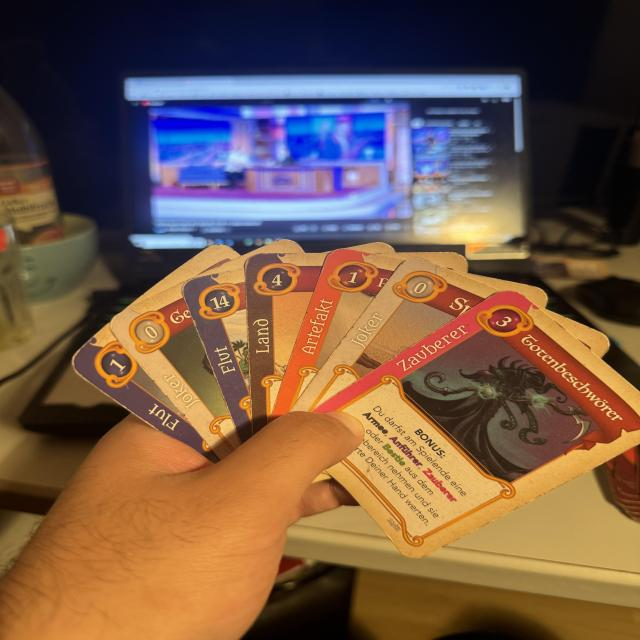Earth Elemental: (245, 252, 325, 433)
Fountain Of Life: (68, 322, 222, 464)
Island: (178, 269, 252, 447)
Mirage: (291, 255, 503, 413)
Necromancer: (308, 287, 640, 562)
Rune Of Protection: (269, 246, 401, 422)
Shapeshifter: (107, 282, 242, 460)
